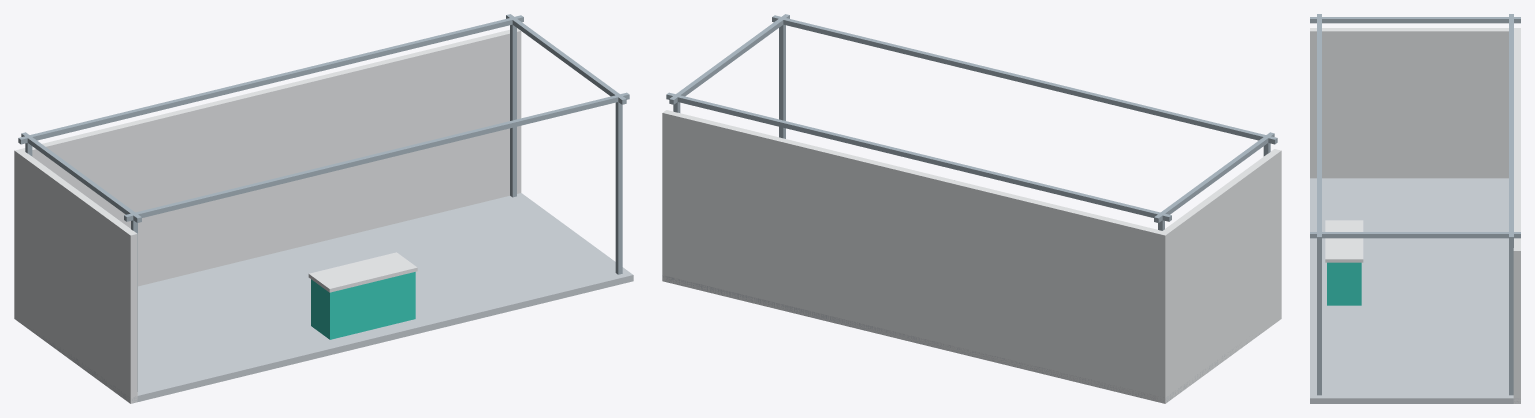
The picture shows the model from 3 angles, left to right: view 1: azimuth 30°, elevation 25°; view 2: azimuth 150°, elevation 25°; view 3: azimuth 270°, elevation 25°; orthographic projection. The views are drawn at different scales.
Parts seen in each view (by area): view 1: Exhibition Booth Concept; view 2: Exhibition Booth Concept; view 3: Exhibition Booth Concept.
Part boxes in pixels (<box>): Exhibition Booth Concept: <box>14,14,633,403</box>; Exhibition Booth Concept: <box>662,14,1281,403</box>; Exhibition Booth Concept: <box>1310,14,1520,403</box>.
Size of the model in its own units: 10 by 3.49 by 4.
